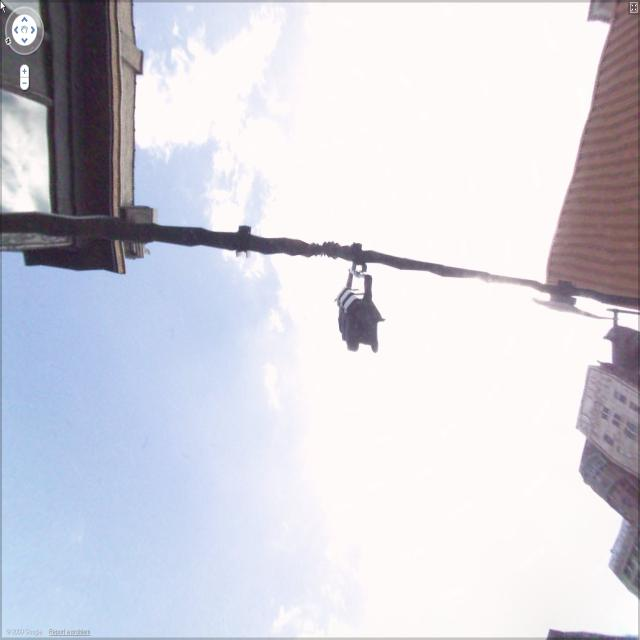b_1: (6, 12, 152, 259), (550, 15, 632, 334), (565, 334, 640, 559)
